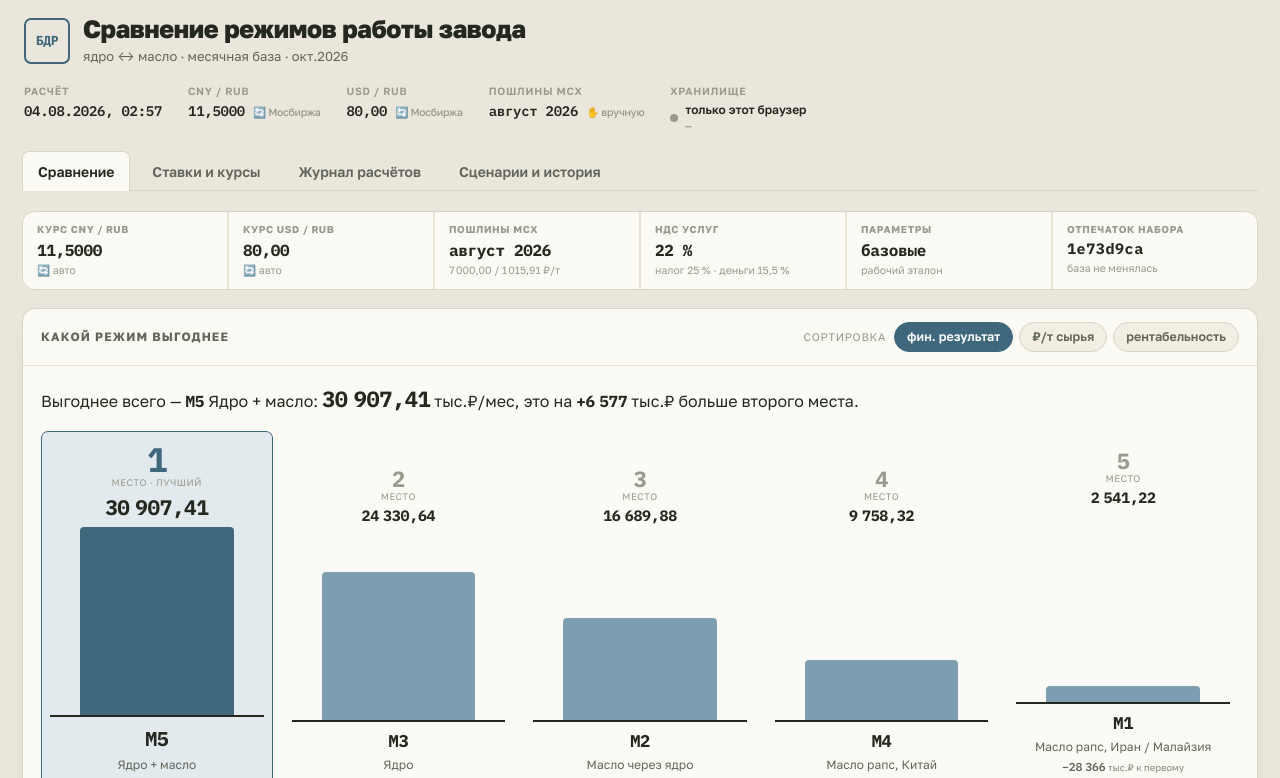
Scenario: Правка параметра пересчитывает все модели немедленно › правка параметра модели помечает набор изменённым
The image size is (1280, 778).
Click the button "Ставки и курсы": coordinates (206, 171) [136, 151, 277, 191]
(page scrolled)
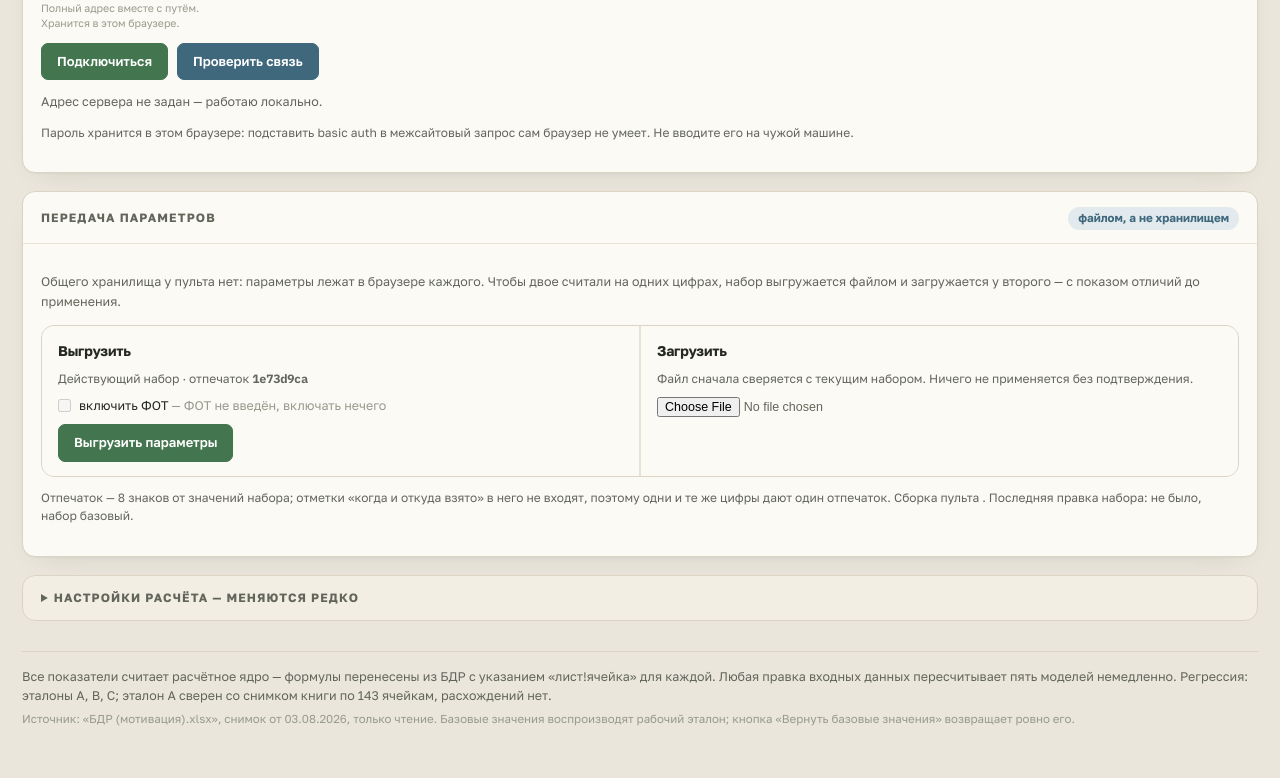
Click the heading "Настройки расчёта — меняются редко": coordinates (206, 597) [54, 590, 359, 605]
(page scrolled)
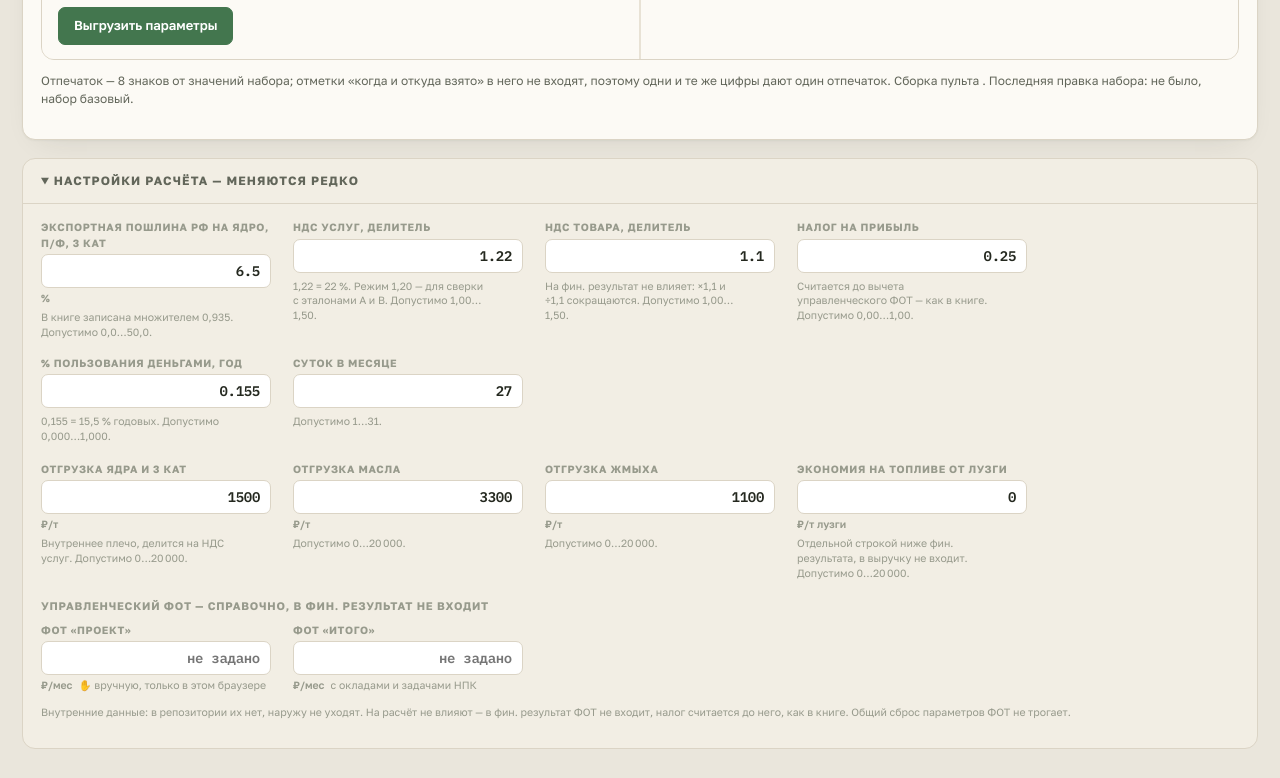
Replace the text in the field labelled "суток в месяце Допустимо 1…31." with "30": coordinates (408, 391) [293, 374, 523, 408]
(page scrolled)
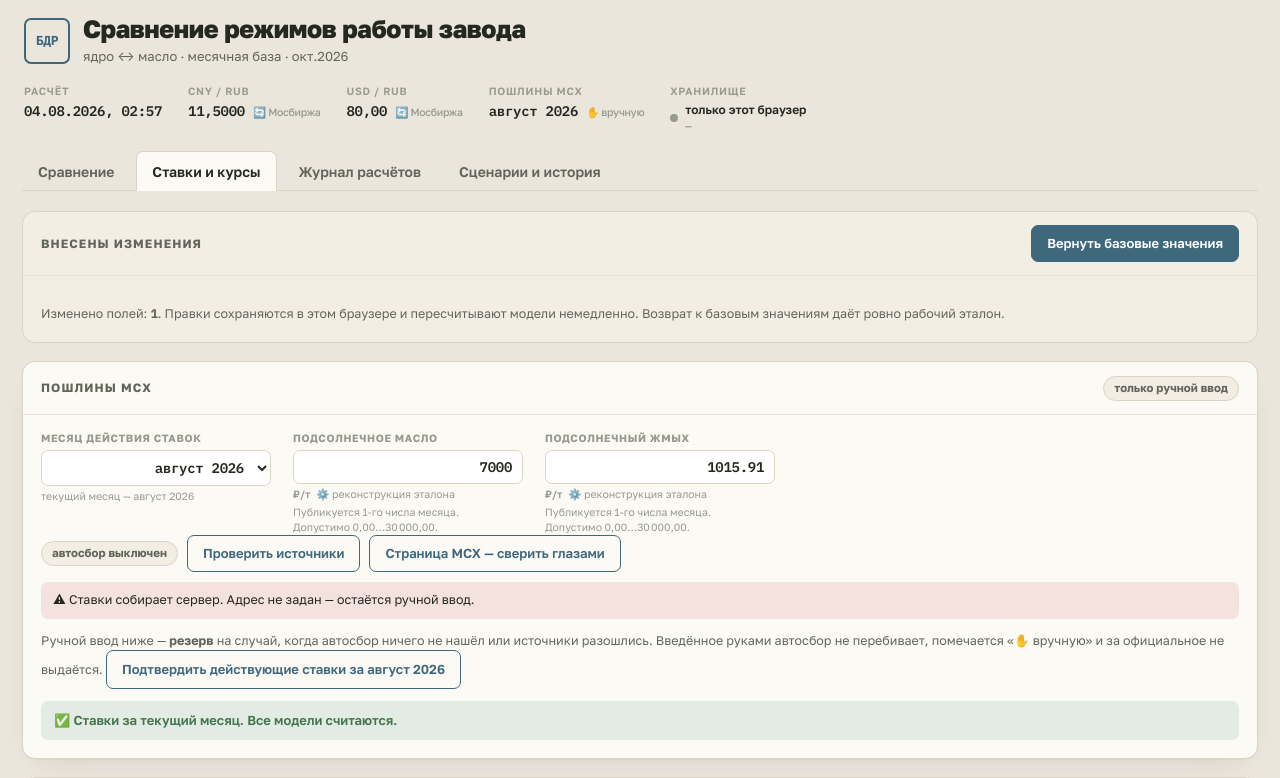
Click the button "Сравнение": coordinates (76, 171) [22, 151, 130, 191]
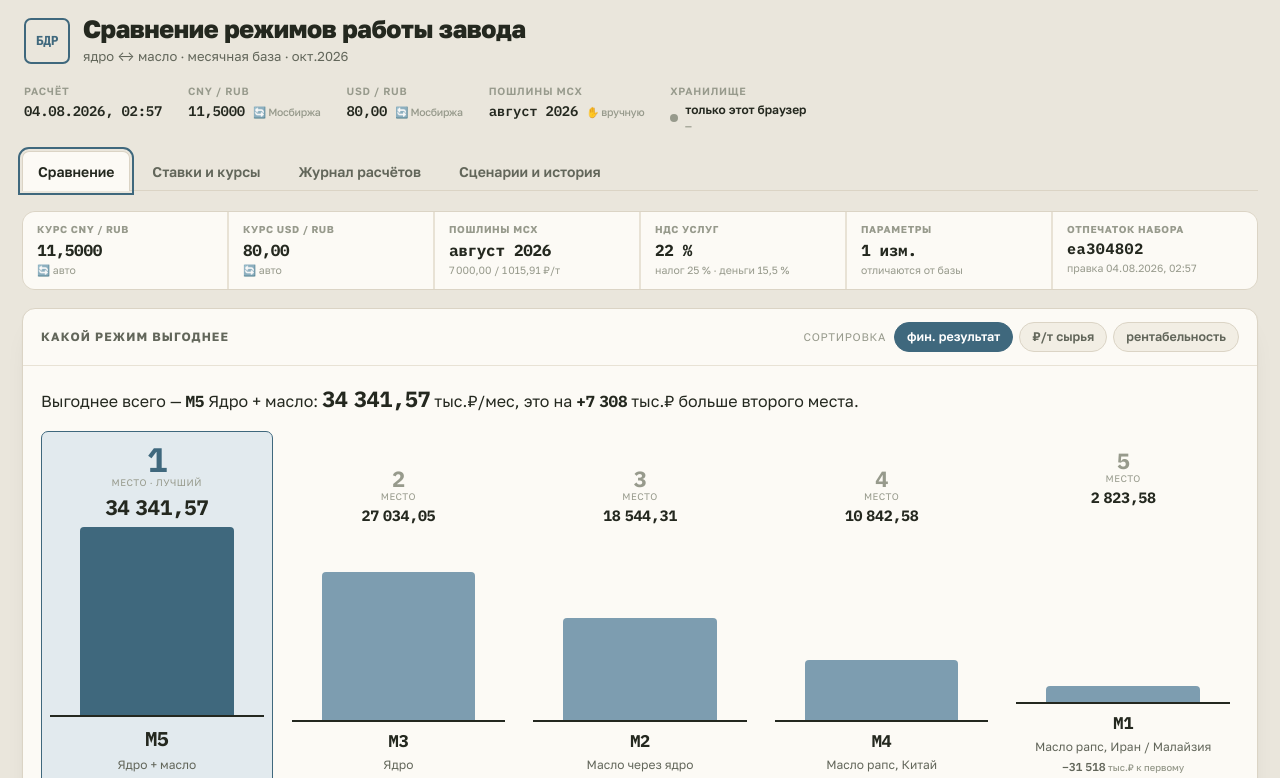
Now the text "отличаются от базы" is shown, box [861, 264, 963, 276]
